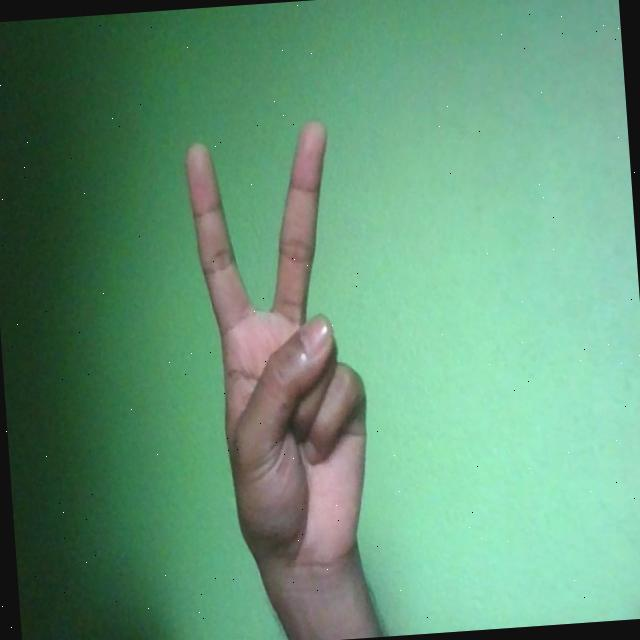Fist: (184, 116, 378, 588)
